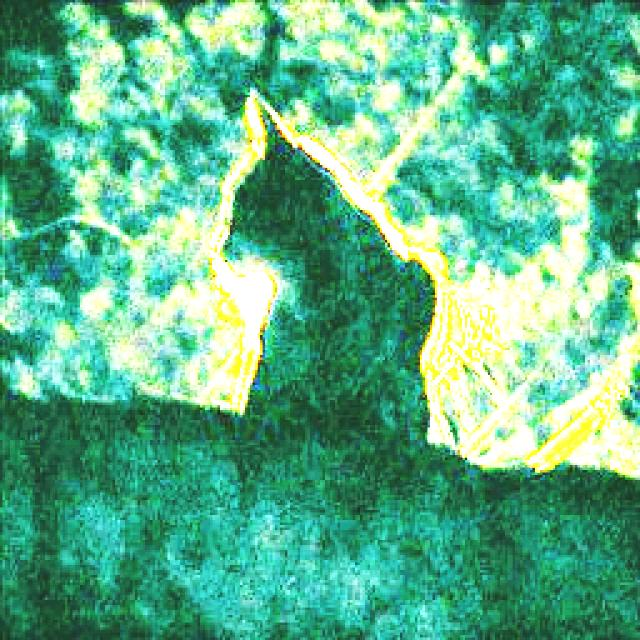cat: (207, 90, 448, 454)
